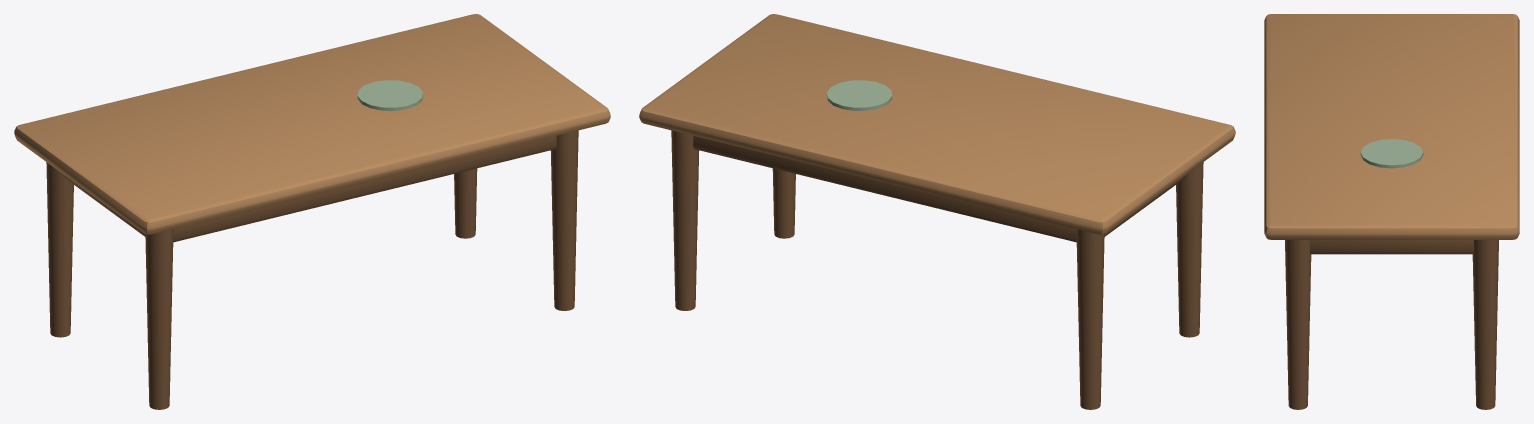
Rendered from dining_table.glb.
The picture shows the model from 3 angles, left to right: view 1: azimuth 30°, elevation 25°; view 2: azimuth 150°, elevation 25°; view 3: azimuth 270°, elevation 25°; orthographic projection. The views are drawn at different scales.
Visible parts, largest first — view 1: FURN-dining_table; view 2: FURN-dining_table; view 3: FURN-dining_table.
Boxes of the visible parts, box(x1,y1,x2,y2) form: FURN-dining_table: box(14, 14, 610, 409); FURN-dining_table: box(639, 14, 1235, 409); FURN-dining_table: box(1264, 14, 1519, 409).
Bounding box in the file's own units: 1.8 × 0.762 × 0.9.
